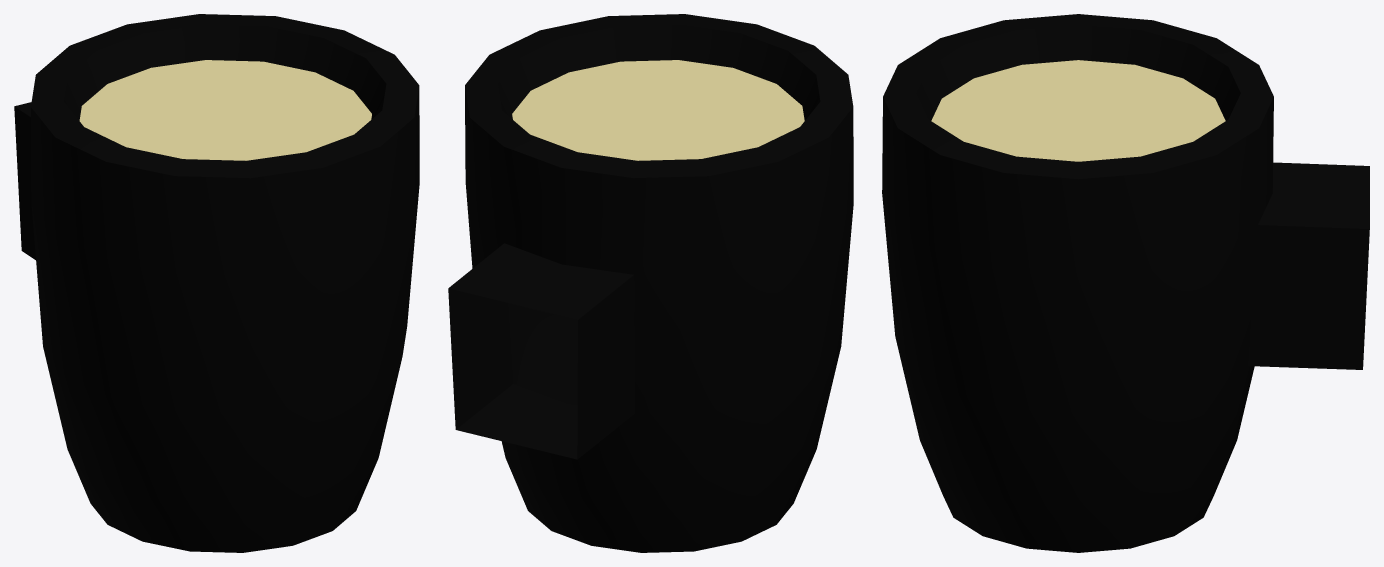
Rendered from faretto_01.fbx.
The picture shows the model from 3 angles, left to right: view 1: azimuth 30°, elevation 25°; view 2: azimuth 150°, elevation 25°; view 3: azimuth 270°, elevation 25°; orthographic projection.
Visible parts, largest first — view 1: Sphere; view 2: Sphere; view 3: Sphere.
Part boxes in pixels (box(x1,y1,x2,y2)): Sphere: box(14, 14, 419, 552); Sphere: box(448, 14, 853, 552); Sphere: box(882, 14, 1369, 552).
Size of the model in its own units: 116 by 131 by 144.
